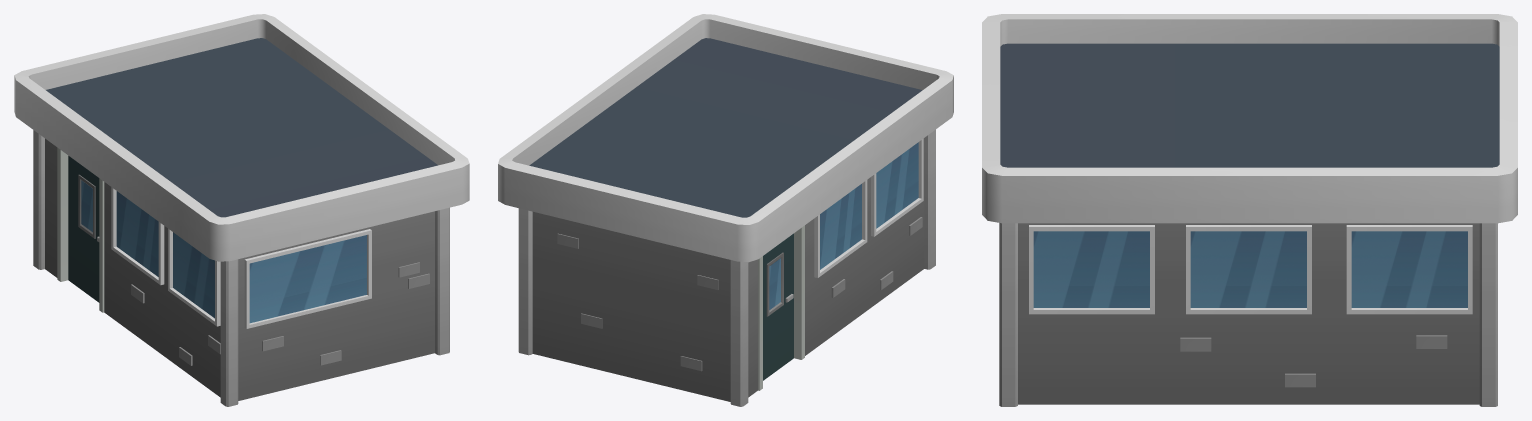
File: Building_13_F.fbx
3 renders of one model, left to right at view 1: azimuth 30°, elevation 25°; view 2: azimuth 150°, elevation 25°; view 3: azimuth 270°, elevation 25°, orthographic. The views are drawn at different scales.
Visible parts, largest first — view 1: Building_13_F; view 2: Building_13_F; view 3: Building_13_F.
Boxes of the visible parts, x1,y1,x2,y2 form: Building_13_F: (14,14,469,406); Building_13_F: (498,14,953,406); Building_13_F: (982,14,1517,406).
Bounding box in the file's own units: 392 × 276 × 549.
